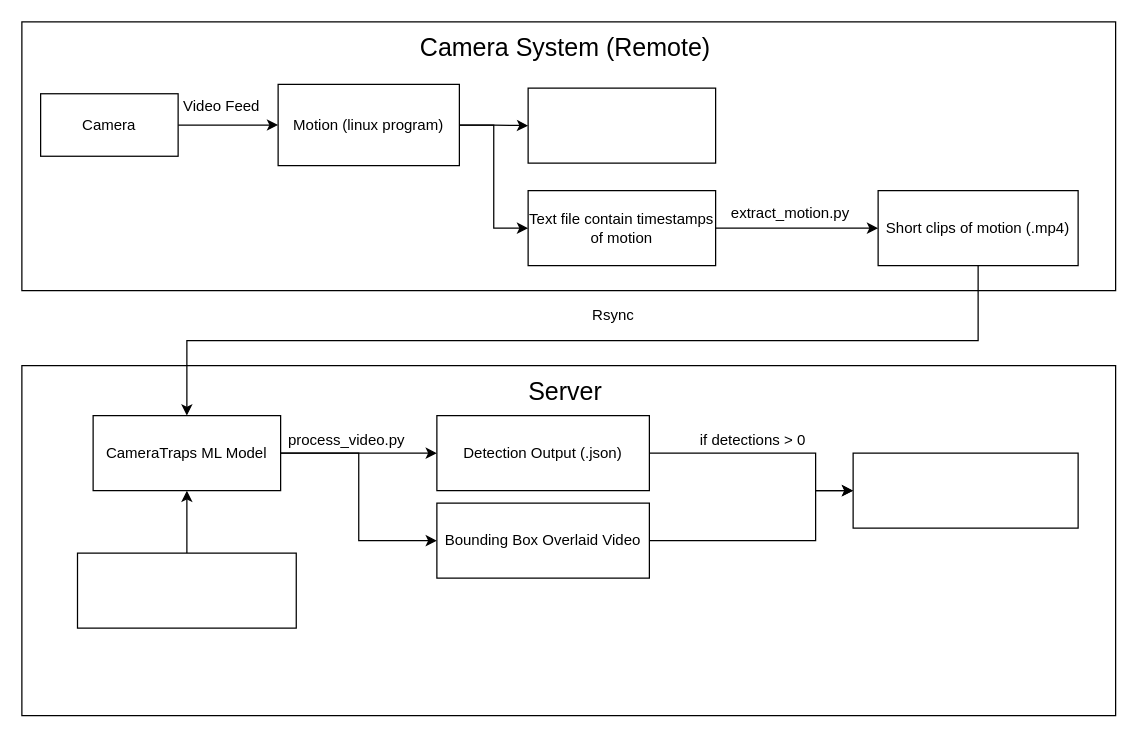
The diagram is 1138 pixels wide and 738 high, and some of its shapes have lost their labels. Each missing label, with the centre of its shape:
.mp4 file (saved video log): pixel 621 125
Constraints file (3 categories: human, vehicle, animal): pixel 186 590
Send email with attached video: pixel 965 490
